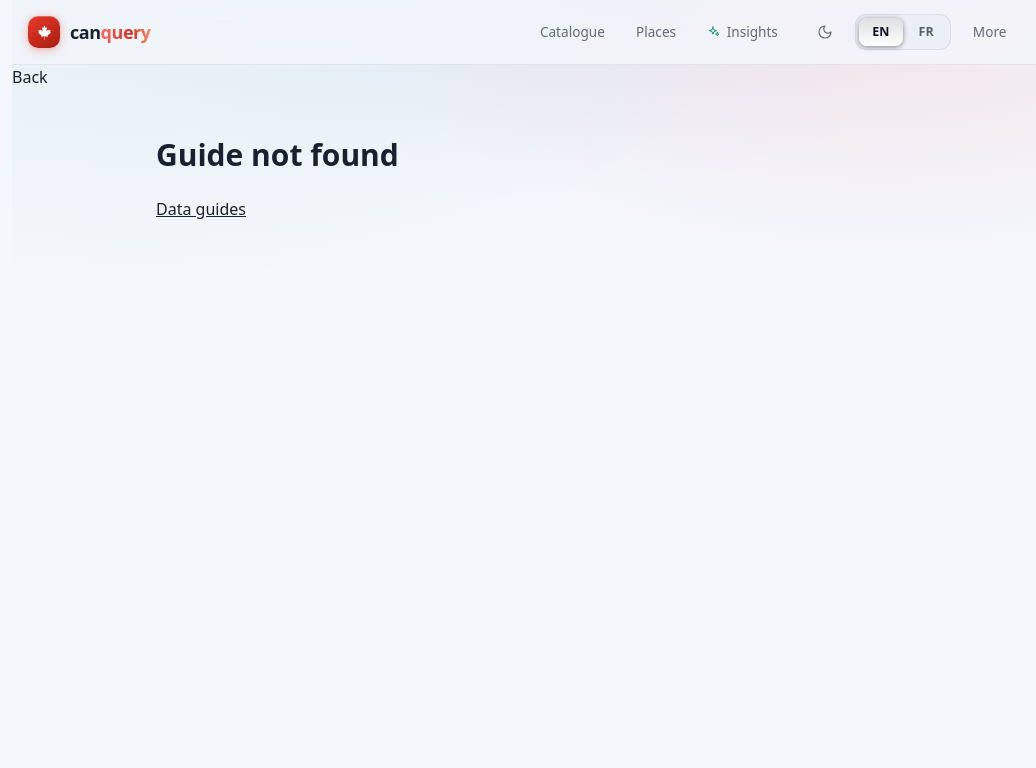
Test: language switching remains available after an article fails to load
Expected: the heading "Guide not found" is shown, [156,134,399,175]
Step 1. Click the button "FR" → [926, 32], box [905,18,947,46]
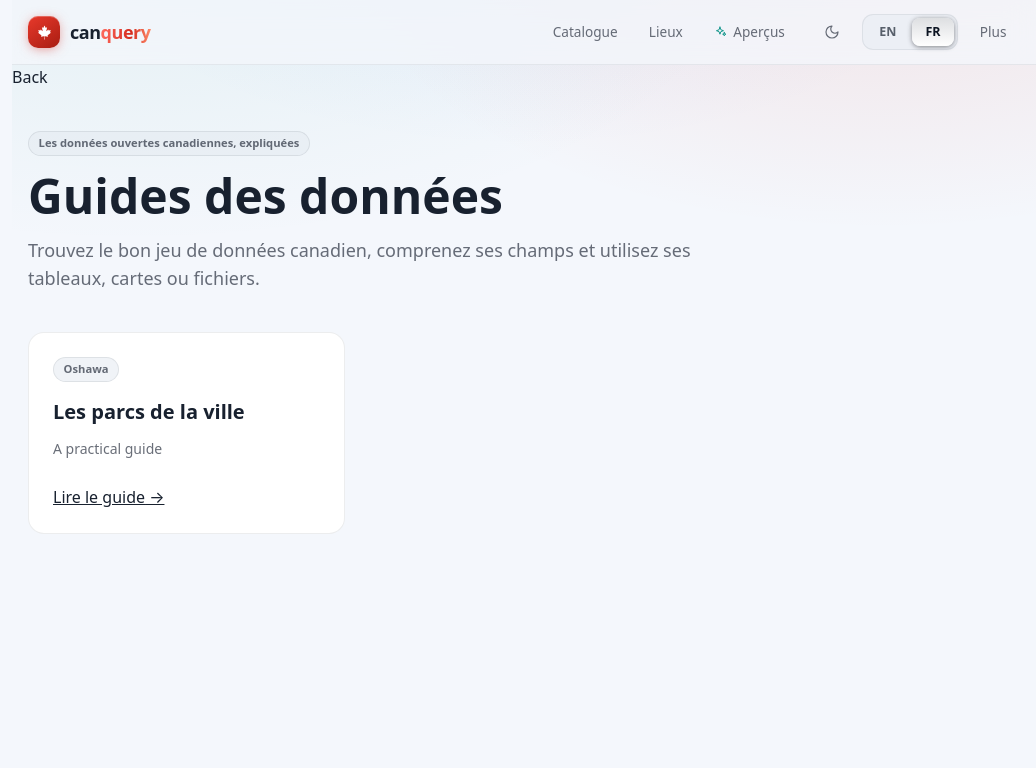
Expected: the heading "Guides des données" is shown, [28,163,503,228]
